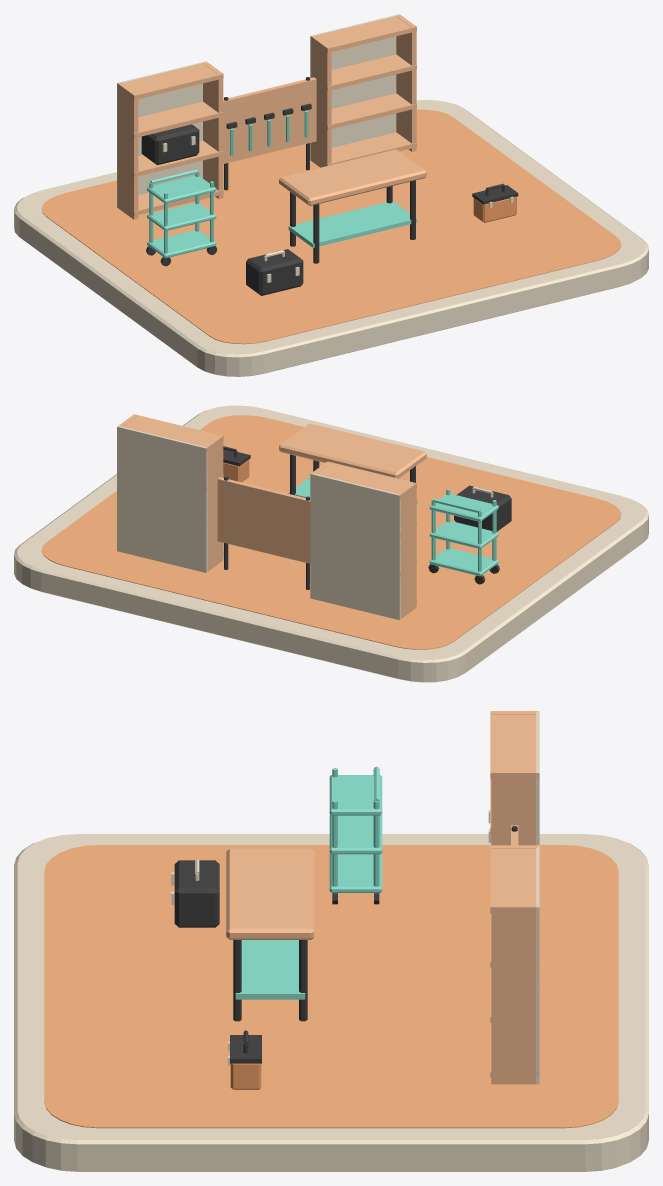
File: room.fbx
The picture shows the model from 3 angles, top to bottom: view 1: azimuth 30°, elevation 25°; view 2: azimuth 150°, elevation 25°; view 3: azimuth 270°, elevation 25°; orthographic projection. The views are drawn at different scales.
Parts seen in each view (by area): view 1: COM-02 Floor Surface, COM-01 Rounded Base Direct, Peg board, Worktop, Back.001, Lower shelf, Back, Side, Side.002, Case, Side.003, Side.001 (+13 smaller); view 2: COM-02 Floor Surface, COM-01 Rounded Base Direct, Back.001, Back, Peg board, Worktop, Side, Side.002, Shelf.003, Shelf.007, Case, Tray.001 (+3 smaller); view 3: COM-02 Floor Surface, COM-01 Rounded Base Direct, Worktop, Side.003, Lower shelf, Case, Shelf.003, Shelf.007, Side.001, Tray.002, Tray.001, Tray (+5 smaller).
Boxes of the visible parts, x1=… form: COM-02 Floor Surface: x1=41, y1=109, x2=621, y2=344; COM-01 Rounded Base Direct: x1=14, y1=100, x2=648, y2=376; Peg board: x1=223, y1=77, x2=316, y2=163; Worktop: x1=279, y1=149, x2=426, y2=205; Back.001: x1=310, y1=14, x2=399, y2=160; Lower shelf: x1=288, y1=201, x2=417, y2=247; Back: x1=117, y1=61, x2=206, y2=207; Side: x1=118, y1=82, x2=138, y2=219; Side.002: x1=311, y1=36, x2=331, y2=167; Case: x1=246, y1=249, x2=303, y2=295; Side.003: x1=396, y1=15, x2=416, y2=151; Side.001: x1=203, y1=62, x2=223, y2=198; COM-02 Floor Surface: x1=41, y1=415, x2=621, y2=649; COM-01 Rounded Base Direct: x1=14, y1=405, x2=648, y2=682; Back.001: x1=117, y1=426, x2=207, y2=572; Back: x1=310, y1=473, x2=400, y2=619; Peg board: x1=217, y1=477, x2=310, y2=563; Worktop: x1=279, y1=423, x2=426, y2=478; Side: x1=396, y1=482, x2=416, y2=618; Side.002: x1=203, y1=435, x2=223, y2=571; Shelf.003: x1=316, y1=461, x2=416, y2=499; Shelf.007: x1=123, y1=414, x2=223, y2=452; Case: x1=454, y1=485, x2=511, y2=531; Tray.001: x1=429, y1=521, x2=498, y2=549; COM-02 Floor Surface: x1=44, y1=845, x2=618, y2=1128; COM-01 Rounded Base Direct: x1=14, y1=834, x2=648, y2=1171; Worktop: x1=226, y1=848, x2=314, y2=939; Side.003: x1=491, y1=904, x2=537, y2=1084; Lower shelf: x1=235, y1=940, x2=305, y2=999; Case: x1=174, y1=860, x2=219, y2=927; Shelf.003: x1=490, y1=711, x2=538, y2=779; Shelf.007: x1=490, y1=845, x2=538, y2=913; Side.001: x1=491, y1=770, x2=535, y2=845; Tray.002: x1=329, y1=775, x2=382, y2=815; Tray.001: x1=329, y1=814, x2=382, y2=854; Tray: x1=329, y1=853, x2=382, y2=892.
Bounding box in the file's own units: 600 × 190 × 520.
